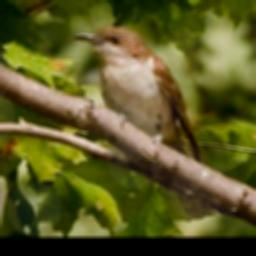Cuckoo: (71, 22, 216, 222)
